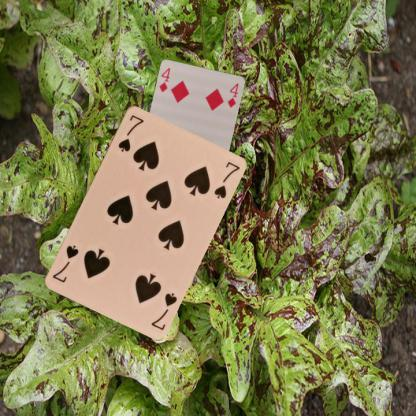4d: (156, 65, 172, 94)
7s: (148, 289, 178, 332), (115, 112, 145, 153)
